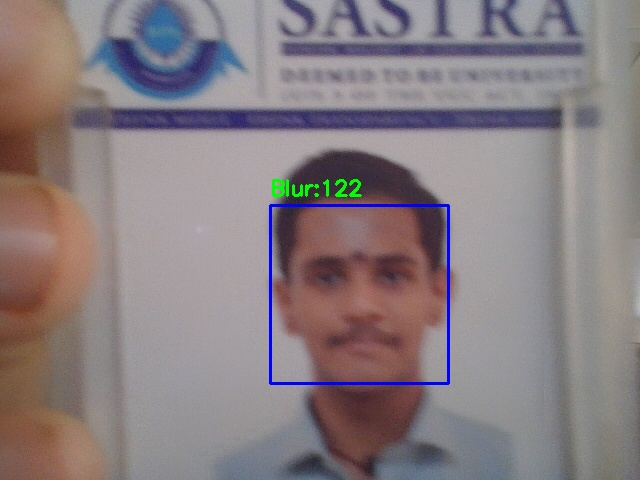fake: (270, 205, 448, 383)
